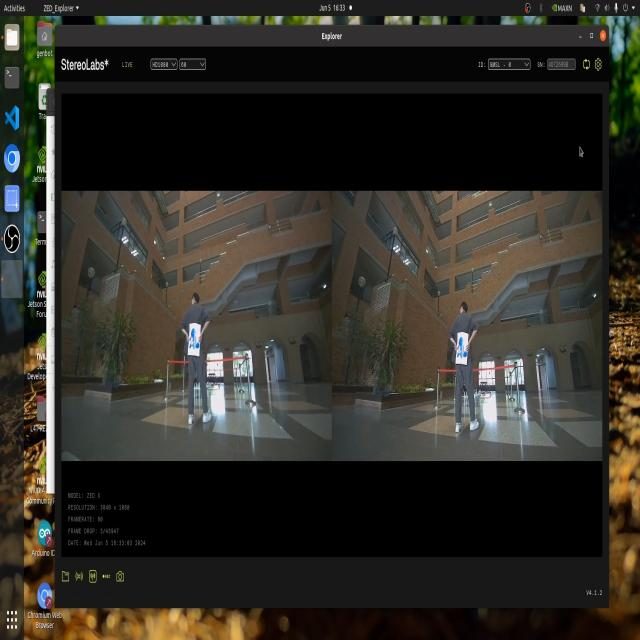blue: (453, 333, 469, 366), (187, 327, 202, 357)
